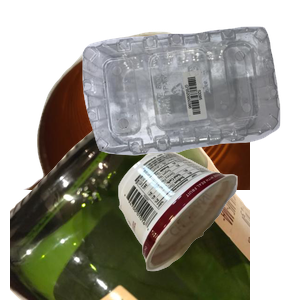glass: (10, 120, 250, 300)
metal: (21, 29, 261, 209)
plastic: (80, 24, 300, 172)
trash: (116, 149, 300, 300)
